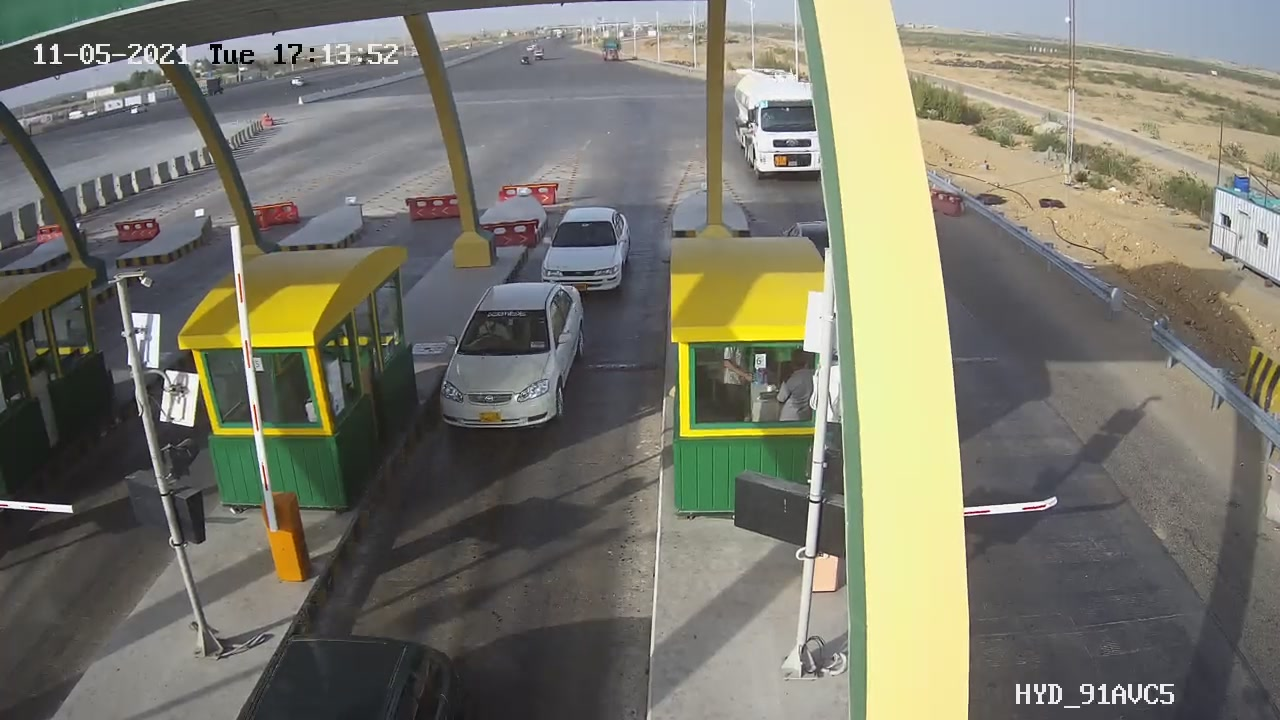F1: (416, 269, 611, 446), (529, 201, 643, 304)
